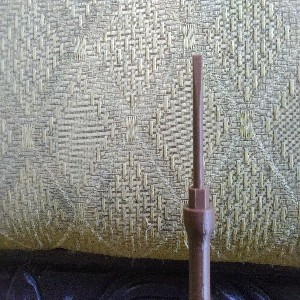obeng: (182, 53, 216, 300)
